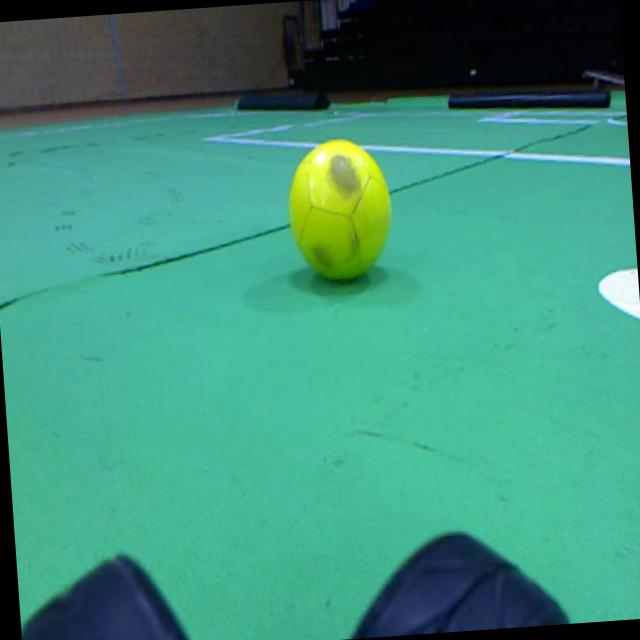ball: (288, 139, 390, 278)
